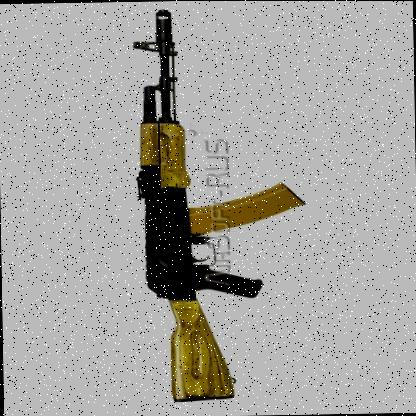rifle: (111, 5, 323, 406)
